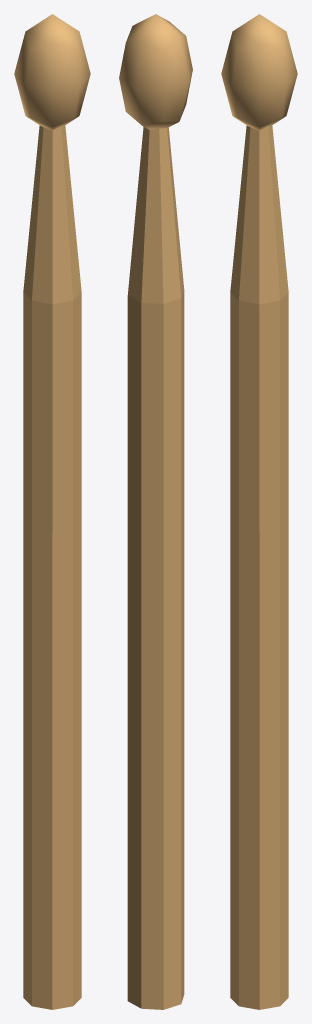
File: drum_stick.fbx
3 renders of one model, left to right at view 1: azimuth 90°, elevation 25°; view 2: azimuth 150°, elevation 25°; view 3: azimuth 270°, elevation 25°, orthographic.
Parts seen in each view (by area): view 1: Cylinder, Cube; view 2: Cylinder, Cube; view 3: Cylinder, Cube.
Part boxes in pixels (box(x1,y1,x2,y2)): Cylinder: box(23, 125, 81, 1009); Cube: box(14, 14, 90, 130); Cylinder: box(127, 127, 184, 1009); Cube: box(119, 14, 192, 129); Cylinder: box(230, 125, 288, 1009); Cube: box(221, 14, 297, 130).
Size of the model in its own units: 2.03 by 28.82 by 2.03.
